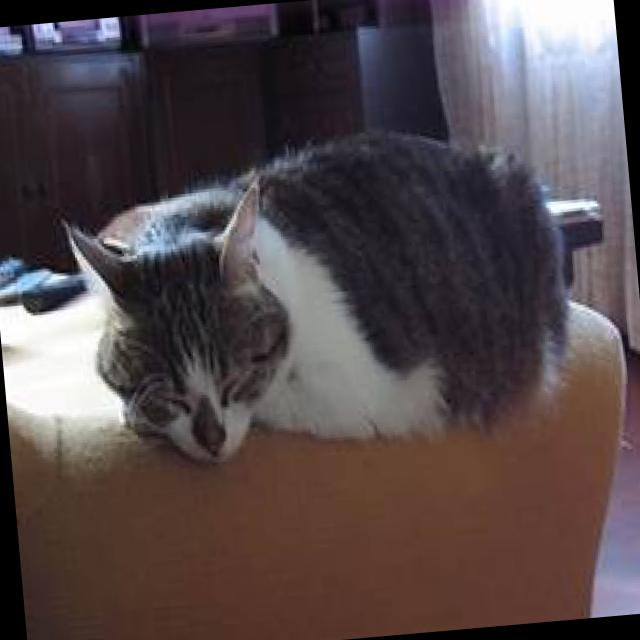animal: (54, 123, 580, 480)
